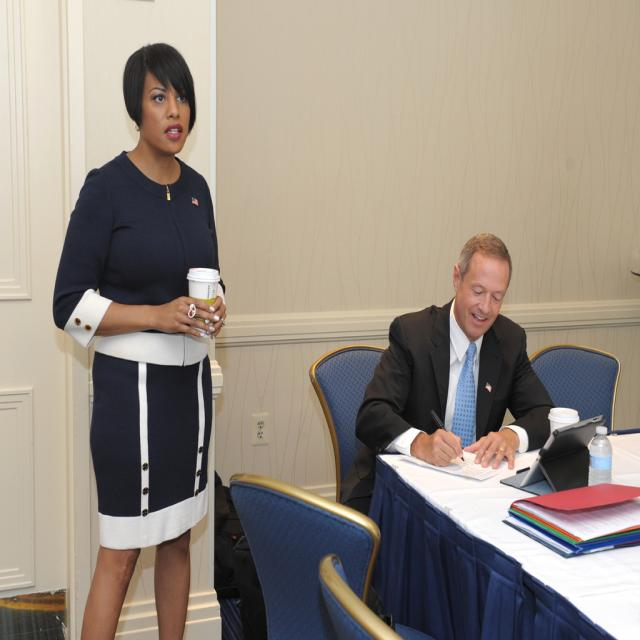chair: (228, 473, 380, 638), (308, 345, 386, 510), (317, 555, 413, 640), (530, 345, 620, 432)
desk: (382, 436, 618, 634)
laptop: (500, 411, 604, 493)
person: (52, 40, 230, 640), (353, 234, 558, 476)
